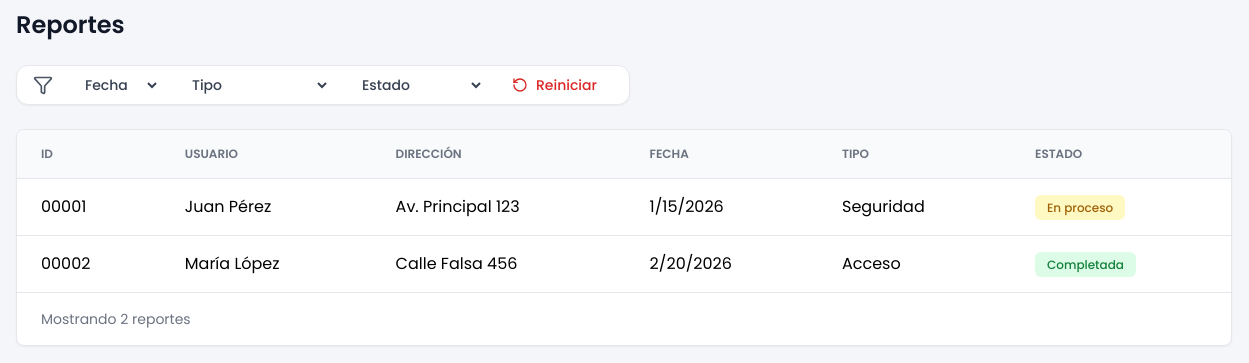
Test: Reportes › filters rows by the tipo select
Expected: the text "Juan Pérez" is shown, [161,178,372,236]
Select "Acceso" in the 2nd dropdown showing "Tipo" at [251, 85], box [172,66,330,104]
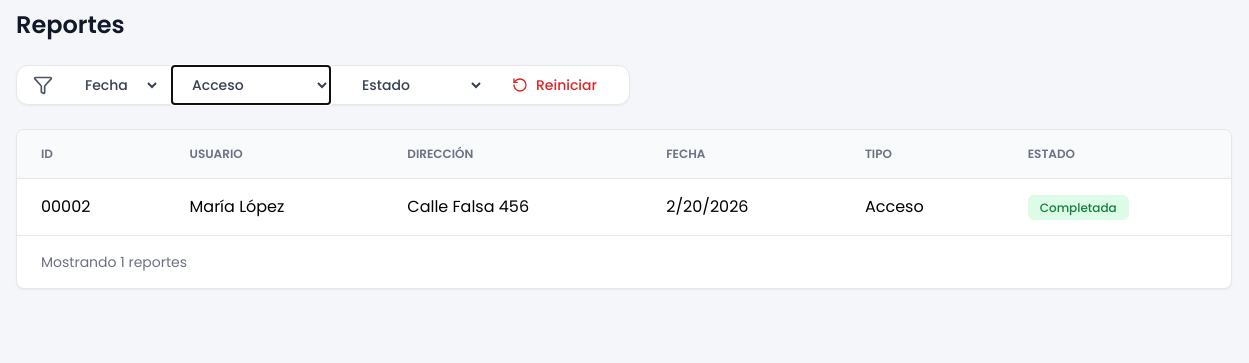
Expected: the text "María López" is shown, [166,178,383,235]
Expected: the text "Juan Pérez" is gone
Expected: the text "Mostrando 1 reportes" is shown, [17,235,1231,288]
